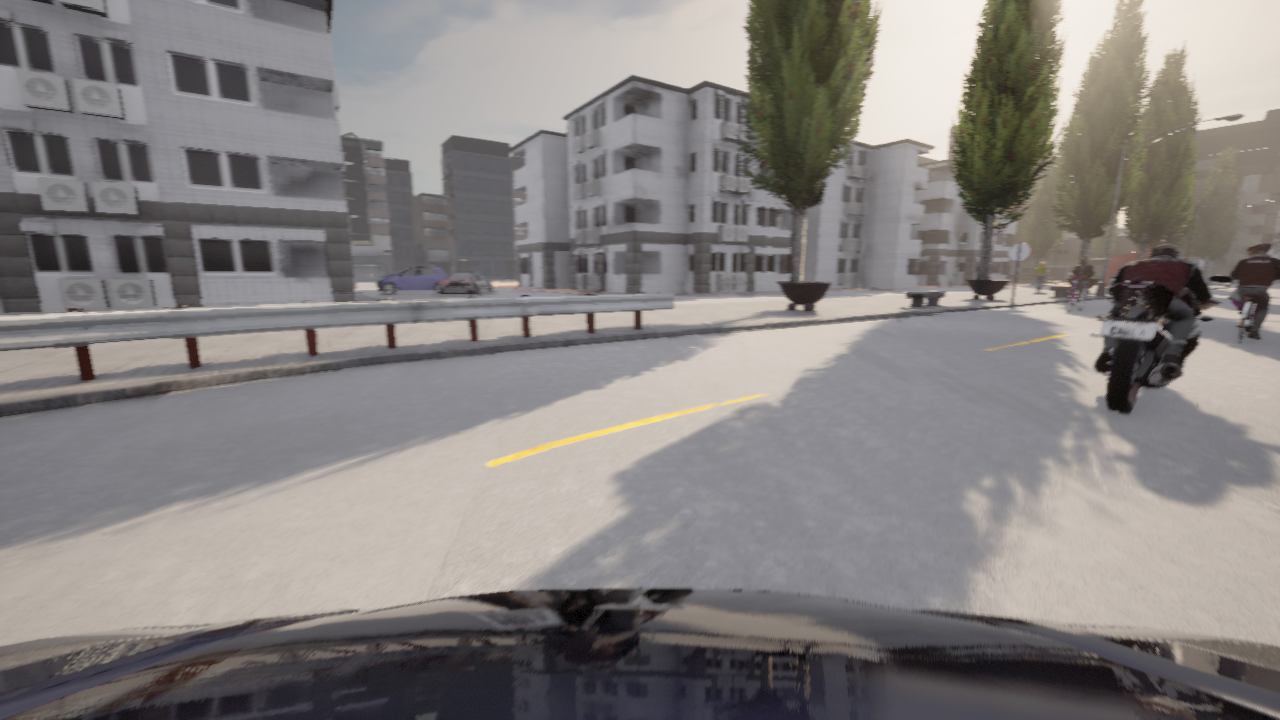cyclist: (0, 588, 1279, 719), (1090, 275, 1233, 412), (377, 266, 446, 294), (438, 270, 492, 294), (1238, 297, 1258, 342), (1066, 278, 1086, 311), (439, 280, 472, 283)
pedestrian: (1227, 245, 1255, 327), (1033, 261, 1047, 292)
